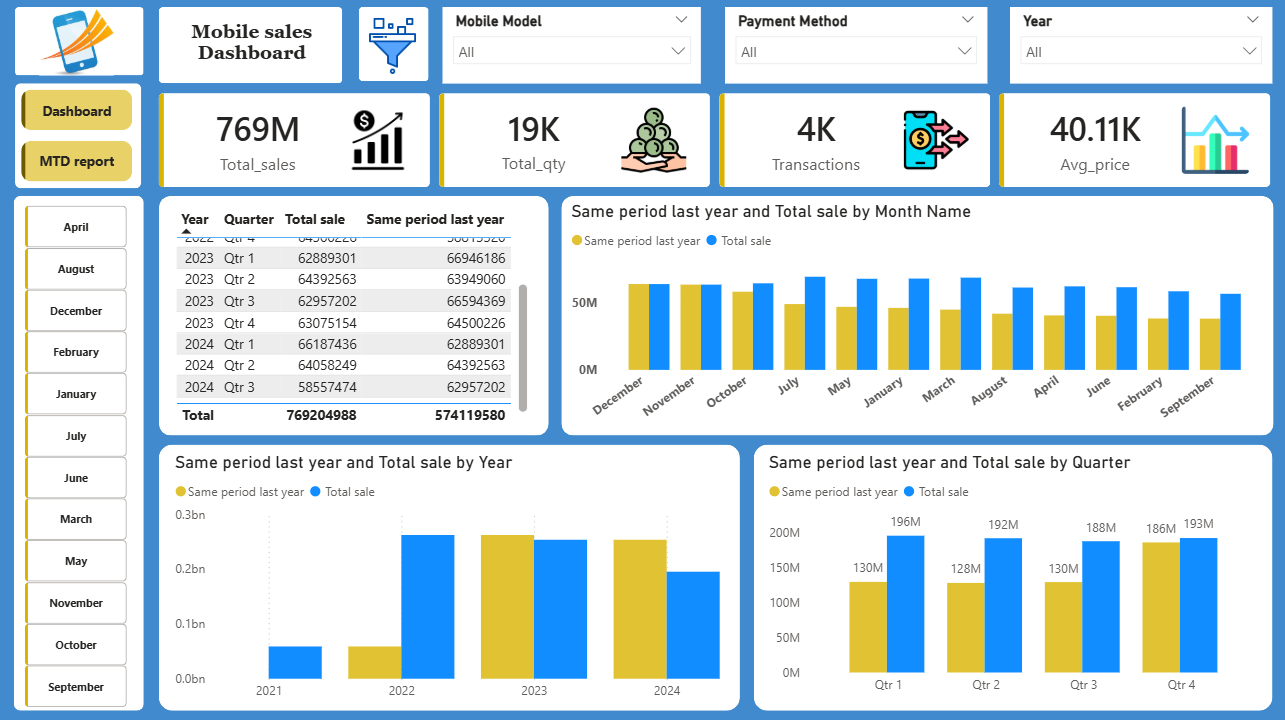

The dashboard page shown, as its layout file describes it:
{"tool":"powerbi","page":{"name":"Same Period Last year","canvas":[1280,720],"ordinal":2},"visuals":[{"type":"shape","box":[160.7,14.7,180.4,74.8],"z":0},{"type":"shape","box":[160.5,200.3,325.2,238.8],"z":1000},{"type":"shape","box":[496.9,200,758.3,235.6],"z":2000},{"type":"shape","box":[18.4,200,127.6,505.5],"z":3000},{"type":"advancedSlicerVisual","fields":{"Values":["Custom calender.Month Name"]},"box":[24.5,204.9,110.4,512.9],"z":4000},{"type":"slicer","fields":{"Values":["Sales.Mobile Model"]},"box":[438.8,15,253.8,75],"z":5000},{"type":"slicer","fields":{"Values":["Sales.Payment Method"]},"box":[716.2,15,257.5,75],"z":6000},{"type":"slicer","fields":{"Values":["Sales.Brand"]},"box":[996.2,15,257.5,75],"z":7000},{"type":"shape","box":[744.8,444.2,509.2,256.4],"z":8000},{"type":"shape","box":[160.7,444.2,570.6,256.4],"z":9000},{"type":"tableEx","fields":{"Values":["Custom calender.Date.Variation.Date Hierarchy.Year","Custom calender.Date.Variation.Date Hierarchy.Quarter","Sum(Sales.Total sale)","Sales.Same peripod last year"]},"box":[170.6,213.5,300.6,222.1],"z":10000},{"type":"shape","box":[356.8,15.1,68.6,72.7],"z":11000},{"type":"shape","box":[19.6,96.9,123.9,95.7],"z":12000},{"type":"shape","box":[19.2,15.1,126.2,67.2],"z":13000},{"type":"textbox","box":[171.8,23.3,160.7,58.9],"z":14000},{"type":"clusteredColumnChart","fields":{"Category":["Custom calender.Date.Variation.Date Hierarchy.Year"],"Y":["Sales.Same peripod last year","Sum(Sales.Total sale)"]},"box":[182.5,452.8,533.8,252.5],"z":15000},{"type":"clusteredColumnChart","fields":{"Y":["Sales.Same peripod last year","Sum(Sales.Total sale)"],"Category":["Custom calender.Month Name"]},"box":[496.7,204.5,747.9,229.2],"z":16000},{"type":"clusteredColumnChart","fields":{"Y":["Sales.Same peripod last year","Sum(Sales.Total sale)"],"Category":["Custom calender.Date.Variation.Date Hierarchy.Quarter"]},"box":[757.1,454,522.7,246.6],"z":17000},{"type":"cardVisual","fields":{"Data":["Sales.Total_sales","Sales.Total_qty","Sales.Transactions","Sales.Avg_price"]},"box":[160.7,99.4,1094.5,93.3],"z":18000},{"type":"image","box":[357.1,24.5,66.3,56.4],"z":19000},{"type":"actionButton","title":"MTD Report","box":[25.8,153.4,112.9,25.8],"z":20000},{"type":"actionButton","title":"Dashboard","box":[31.9,122.7,99.4,20.9],"z":21000},{"type":"image","box":[28.2,17.2,103.1,65],"z":22000}]}

Visuals, with their boxes in screenshot pixels (x1, y1, x2, y2), scaled from the page's 1280x720 canvas onto the 1285x720 screenshot:
shape: bbox=[161, 15, 342, 90]
shape: bbox=[161, 200, 488, 439]
shape: bbox=[499, 200, 1260, 436]
shape: bbox=[18, 200, 147, 706]
advancedSlicerVisual - Custom calender.Month Name: bbox=[25, 205, 135, 718]
slicer - Sales.Mobile Model: bbox=[441, 15, 695, 90]
slicer - Sales.Payment Method: bbox=[719, 15, 978, 90]
slicer - Sales.Brand: bbox=[1000, 15, 1259, 90]
shape: bbox=[748, 444, 1259, 701]
shape: bbox=[161, 444, 734, 701]
tableEx - Custom calender.Date.Variation.Date Hierarchy.Year x Custom calender.Date.Variation.Date Hierarchy.Quarter: bbox=[171, 214, 473, 436]
shape: bbox=[358, 15, 427, 88]
shape: bbox=[20, 97, 144, 193]
shape: bbox=[19, 15, 146, 82]
textbox: bbox=[172, 23, 334, 82]
clusteredColumnChart - Custom calender.Date.Variation.Date Hierarchy.Year x Sales.Same peripod last year: bbox=[183, 453, 719, 705]
clusteredColumnChart - Sales.Same peripod last year x Sum(Sales.Total sale): bbox=[499, 204, 1249, 434]
clusteredColumnChart - Sales.Same peripod last year x Sum(Sales.Total sale): bbox=[760, 454, 1284, 701]
cardVisual - Sales.Total_sales x Sales.Total_qty: bbox=[161, 99, 1260, 193]
image: bbox=[358, 24, 425, 81]
"MTD Report" actionButton: bbox=[26, 153, 139, 179]
"Dashboard" actionButton: bbox=[32, 123, 132, 144]
image: bbox=[28, 17, 132, 82]
